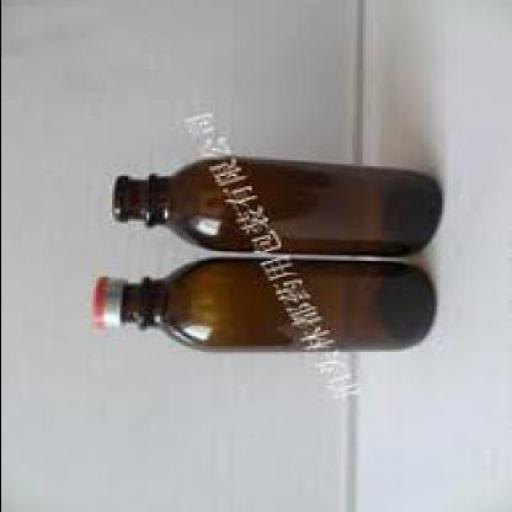glass: (108, 160, 438, 256), (116, 263, 430, 354)
metal: (87, 278, 121, 332)
